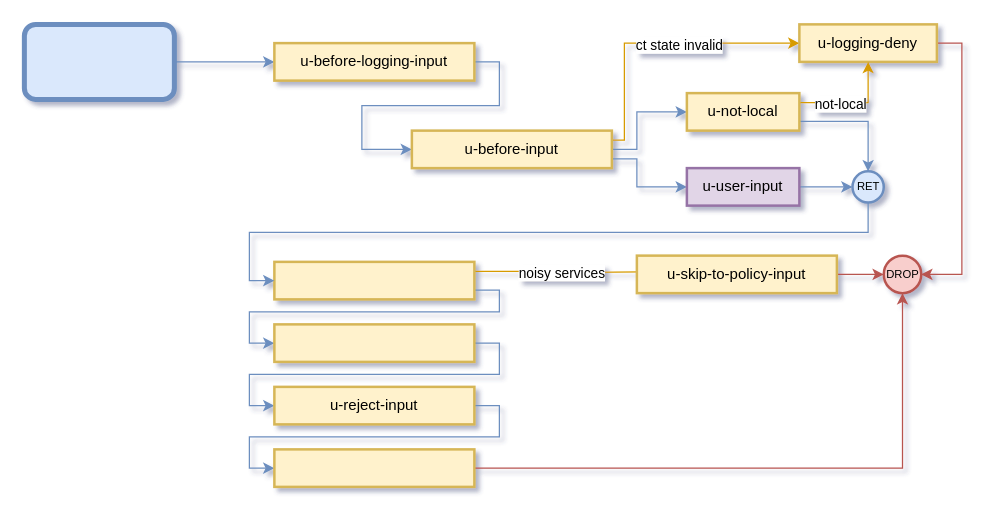
The diagram is 1001 pixels wide and 516 high, and some of its shapes have lost their labels. Here are the shapes that lost their labels. From the top down, the centre of each, then its label:
At [98,61]: "INPUT".
At [373,280]: "u-after-input".
At [373,342]: "u-after-logging-input".
At [373,468]: "u-track-input".
